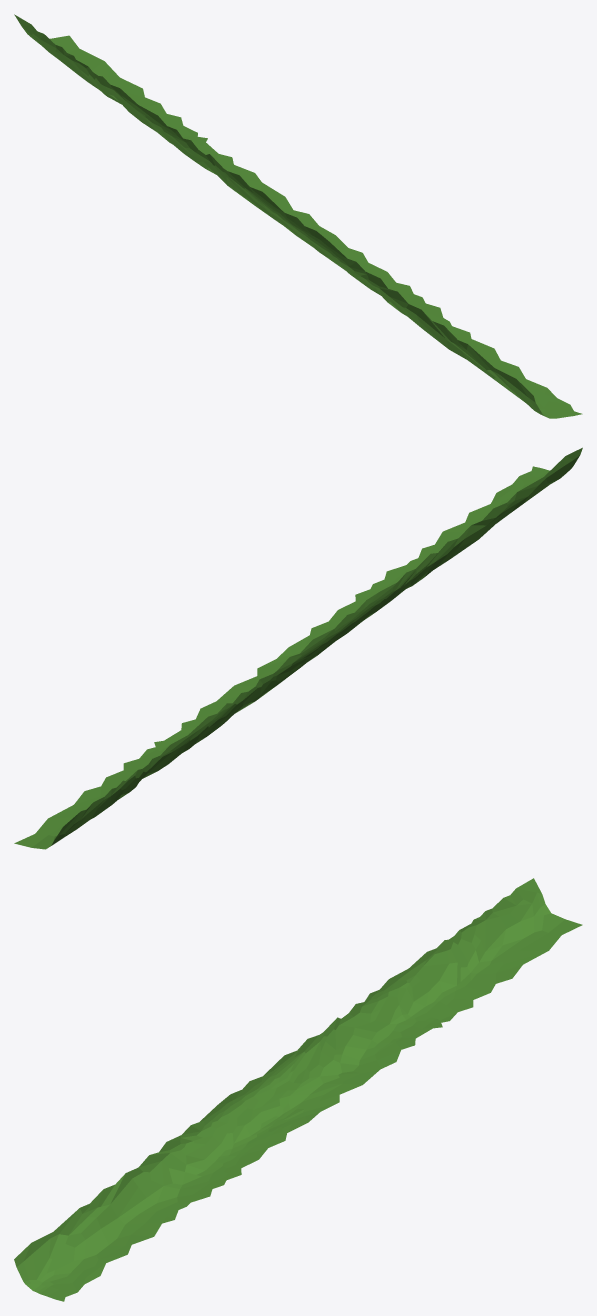
The model's file is grass_path_block_bevel_A.fbx.
3 renders of one model, top to bottom at view 1: azimuth 30°, elevation 25°; view 2: azimuth 150°, elevation 25°; view 3: azimuth 330°, elevation 25°, orthographic.
Parts seen in each view (by area): view 1: grass_path_block_bevel_A; view 2: grass_path_block_bevel_A; view 3: grass_path_block_bevel_A.
Boxes of the visible parts, x1,y1,x2,y2 form: grass_path_block_bevel_A: (14, 14, 582, 418); grass_path_block_bevel_A: (14, 447, 582, 849); grass_path_block_bevel_A: (14, 878, 582, 1301).
Size of the model in its own units: 85.75 by 57.77 by 1420.
